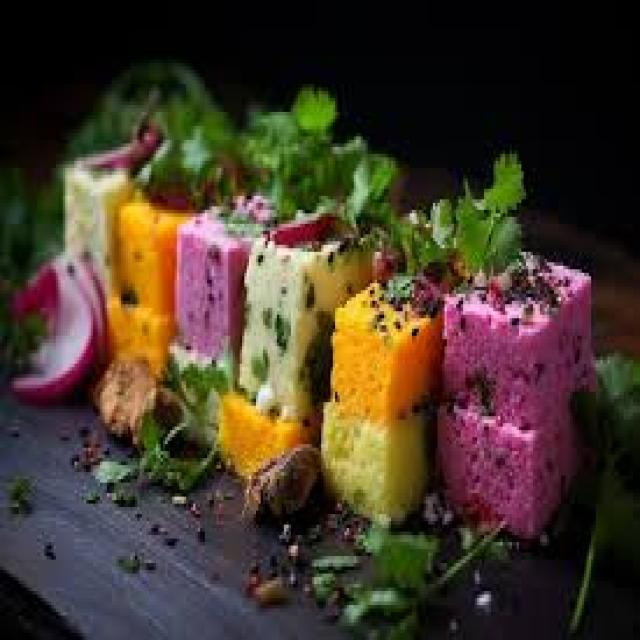DHOKLA: (435, 364, 597, 541), (446, 239, 590, 425), (240, 202, 365, 416), (333, 261, 446, 422), (177, 182, 273, 347), (319, 409, 434, 533), (113, 193, 182, 363), (216, 385, 302, 475)
